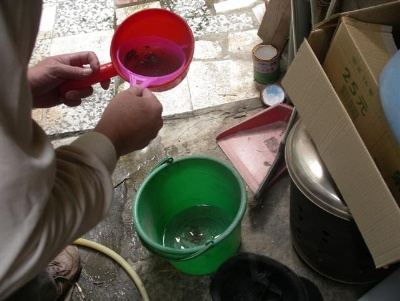bottle: (252, 42, 280, 84)
box: (288, 2, 400, 207)
bucket: (285, 119, 382, 285), (133, 154, 247, 277)
plate: (259, 83, 285, 107)
